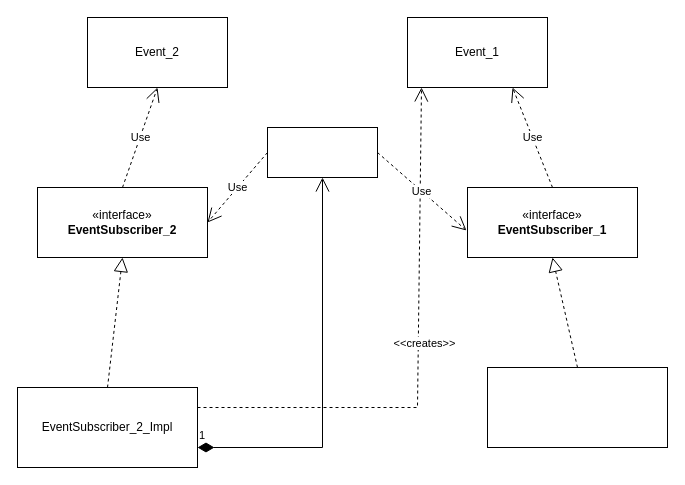
Some shapes in this 685 by 485 pixel diagram are drawn without their labels. Here are the shapes that lost their labels. From the top down, the centre of each, then its label:
At point 322,152: "EventLogger".
At point 577,407: "EventSubscriber_1_Impl".
